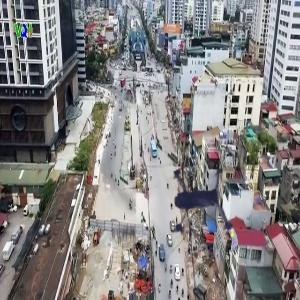drone: (138, 153, 255, 270)
